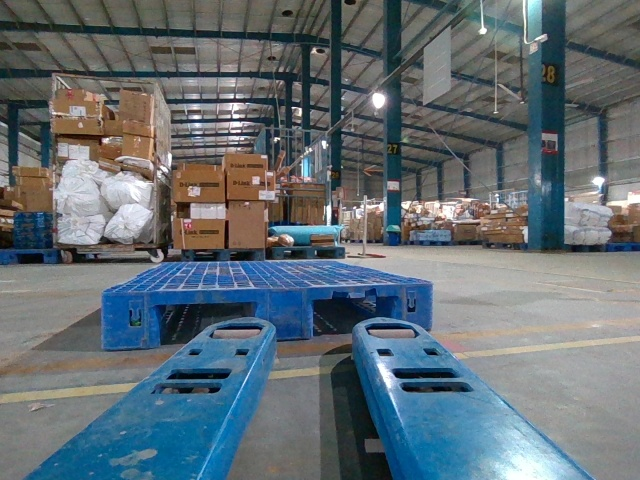block: (255, 286, 315, 340), (104, 291, 156, 349), (395, 283, 436, 334)
front: (102, 282, 433, 348)
hole pallet: (150, 301, 261, 348), (312, 294, 398, 342)
